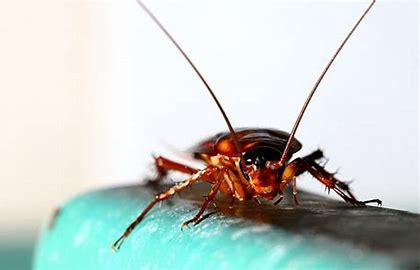cockroach: (69, 0, 395, 243)
